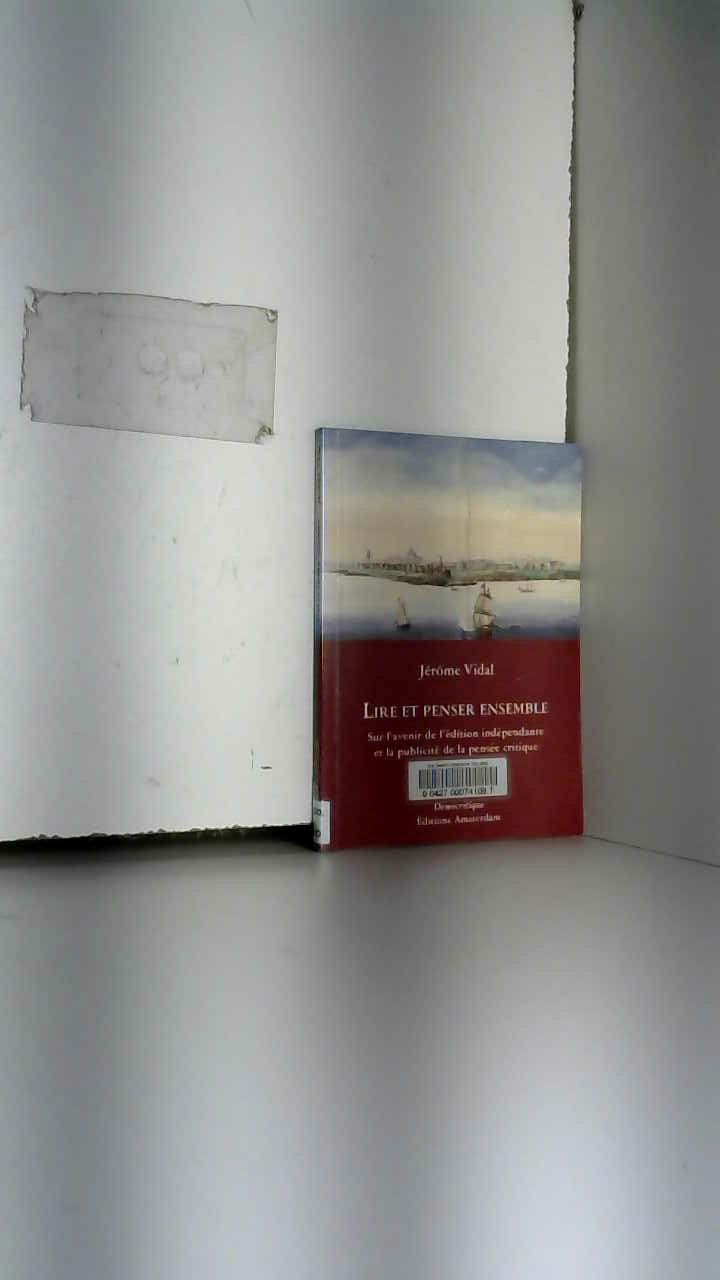book: (274, 390, 637, 905)
